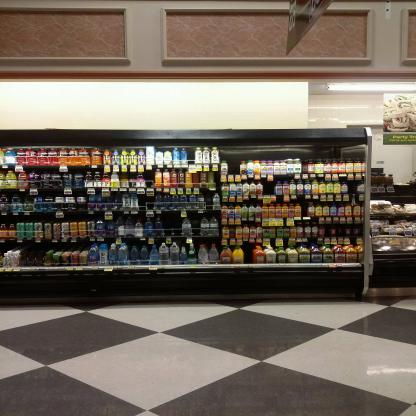Void: (244, 145, 360, 157), (224, 146, 240, 174), (162, 215, 182, 235), (31, 212, 54, 221), (262, 179, 274, 193), (43, 188, 61, 197), (193, 216, 200, 236), (245, 244, 252, 263), (145, 171, 153, 186), (188, 148, 194, 165), (139, 196, 144, 210)
